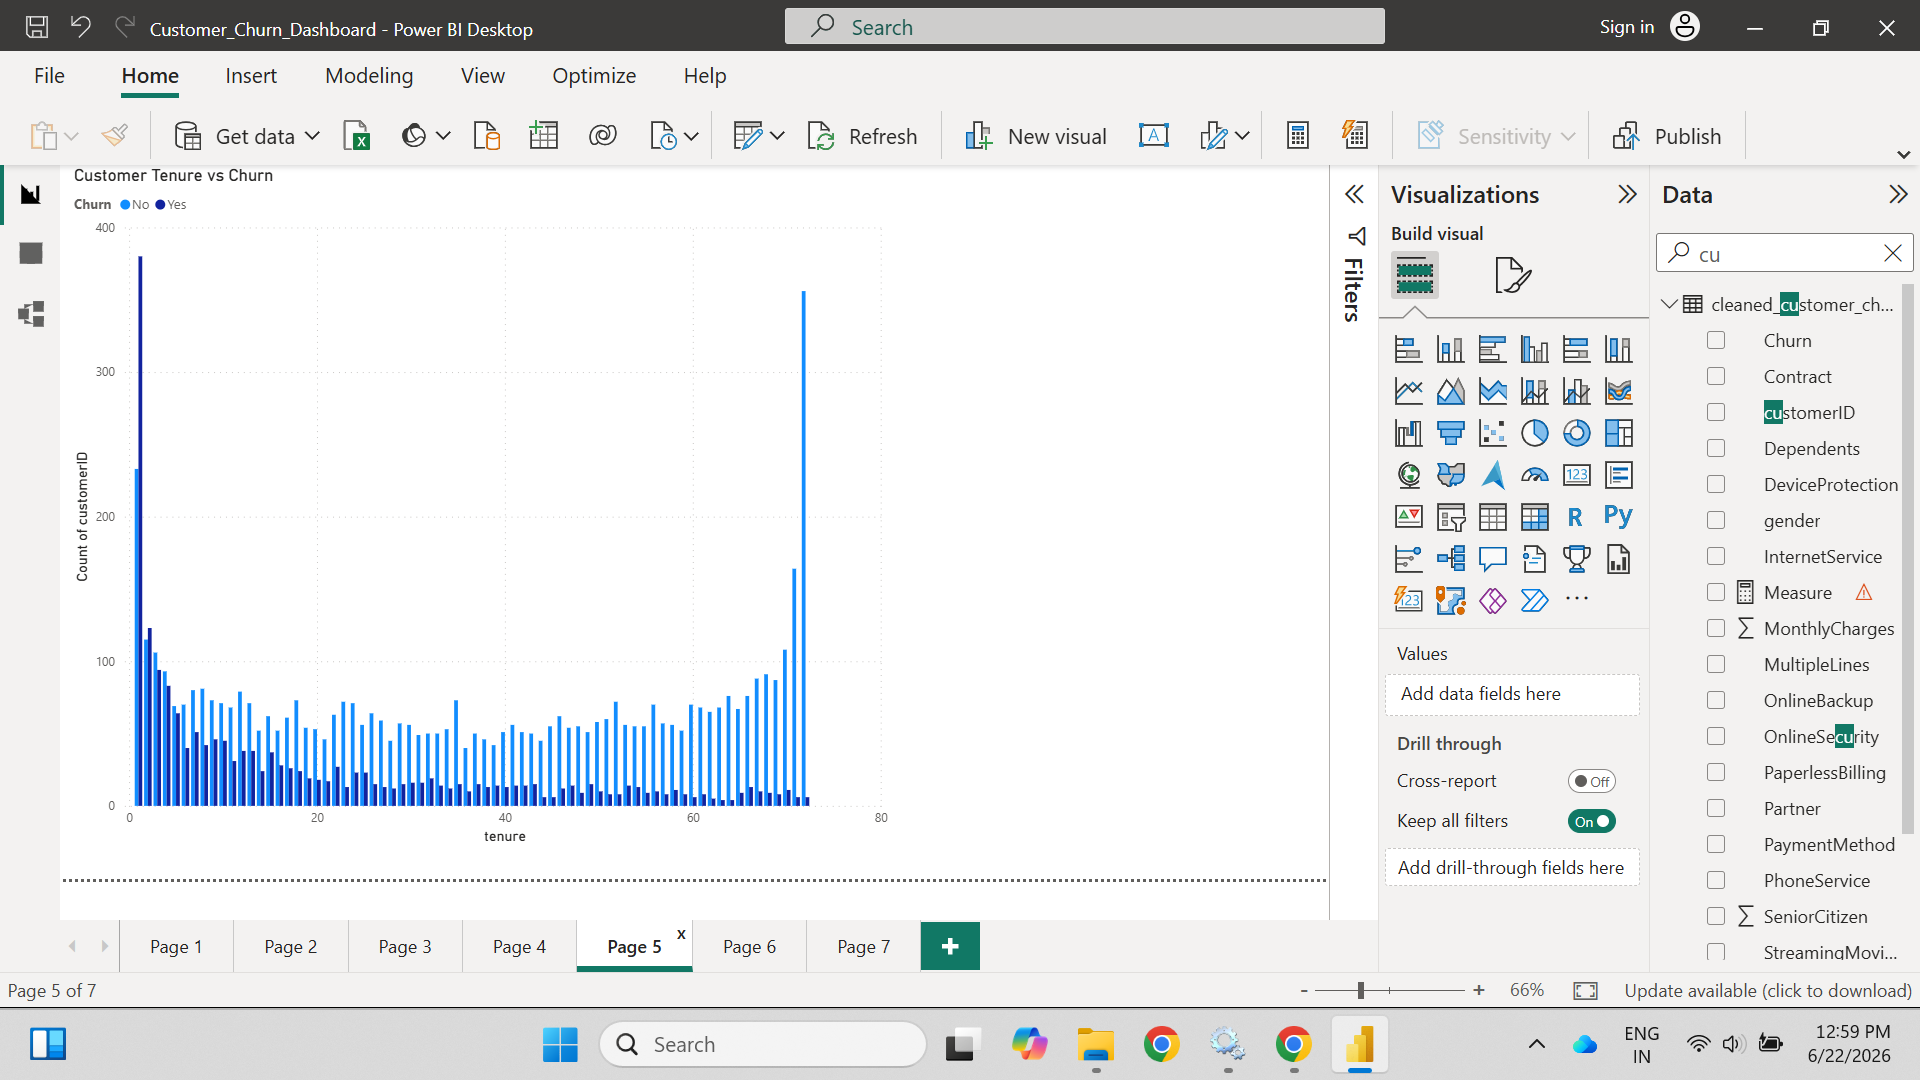

The dashboard page shown, as its layout file describes it:
{"tool":"powerbi","page":{"name":"Page 5","canvas":[1280,720],"ordinal":4},"visuals":[{"type":"clusteredColumnChart","title":"Customer Tenure vs Churn","fields":{"Category":["cleaned_customer_churn.tenure"],"Y":["CountNonNull(cleaned_customer_churn.customerID)"],"Series":["cleaned_customer_churn.Churn"]},"box":[9.4,0,830.7,689.1],"z":0}]}

Visuals, with their boxes on the page's 1280x720 design canvas (x1, y1, x2, y2). These are canvas units, not pixel positions in the 1920x1080 screenshot, which may show the page scaled, cropped or inside an application window:
"Customer Tenure vs Churn" clusteredColumnChart: [left=9, top=0, right=840, bottom=689]
